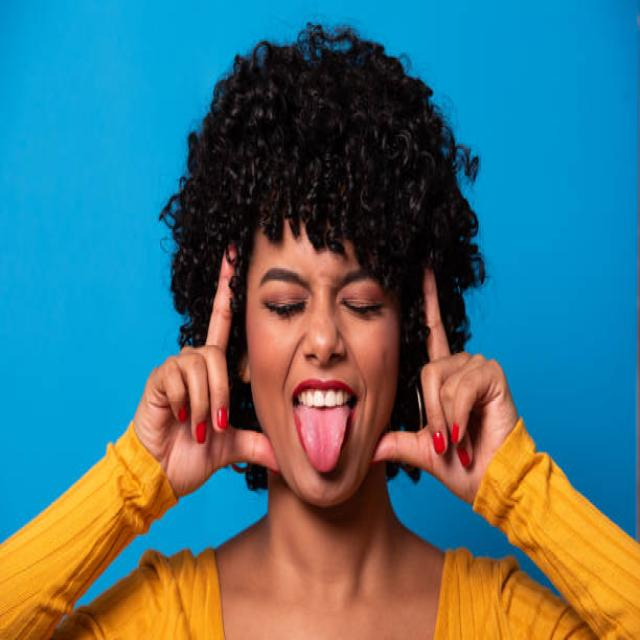tongue: (296, 402, 350, 472)
